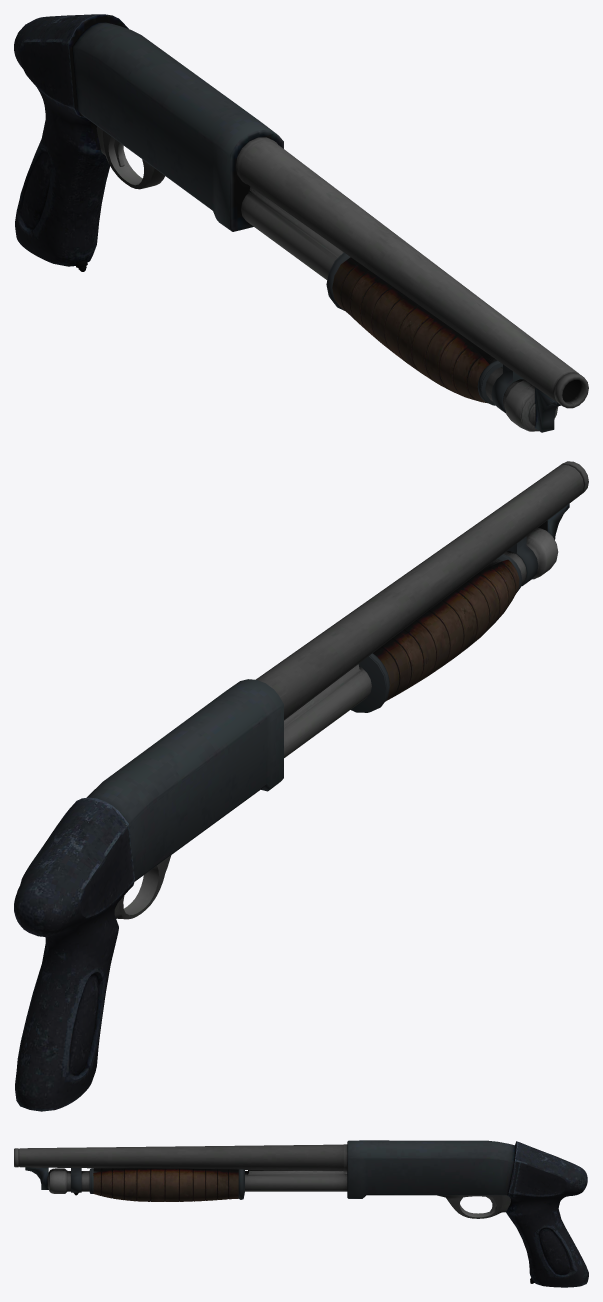
Rendered from stakeout_hi.fbx.
3 renders of one model, top to bottom at view 1: azimuth 30°, elevation 25°; view 2: azimuth 150°, elevation 25°; view 3: azimuth 270°, elevation 25°, orthographic. The views are drawn at different scales.
Parts seen in each view (by area): view 1: ref.001; view 2: ref.001; view 3: ref.001.
Part boxes in pixels (x1,y1,x2,y2): ref.001: (14, 14, 588, 432); ref.001: (14, 461, 588, 1111); ref.001: (14, 1140, 588, 1287).
Size of the model in its own units: 170 by 657 by 2414.
Materials: 1 (1 with a texture image).
